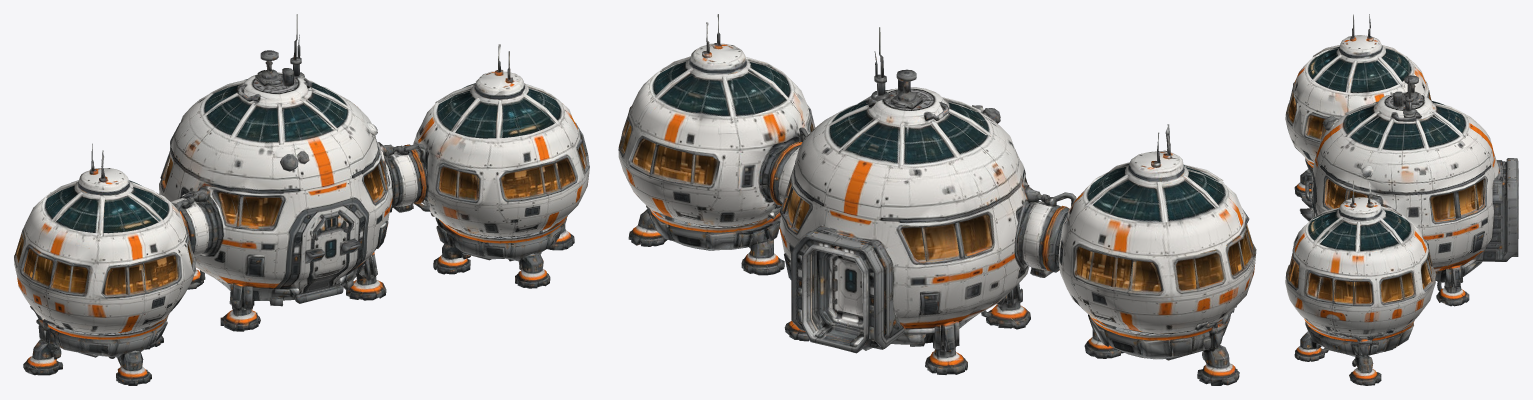
Rendered from AW-MOON-HUB-001-v0.2.glb.
3 views of the same model, side by side, from view 1: azimuth 30°, elevation 25°; view 2: azimuth 150°, elevation 25°; view 3: azimuth 270°, elevation 25° (orthographic). The views are drawn at different scales.
Visible parts, largest first — view 1: AW-MOON-HUB-001_meter_ground_pivot; view 2: AW-MOON-HUB-001_meter_ground_pivot; view 3: AW-MOON-HUB-001_meter_ground_pivot.
Boxes of the visible parts, box(x1,y1,x2,y2) form: AW-MOON-HUB-001_meter_ground_pivot: box(14, 14, 589, 385); AW-MOON-HUB-001_meter_ground_pivot: box(618, 14, 1256, 385); AW-MOON-HUB-001_meter_ground_pivot: box(1285, 14, 1518, 385).
Size of the model in its own units: 25.88 by 12 by 11.33.
1 material, 1 textured.
